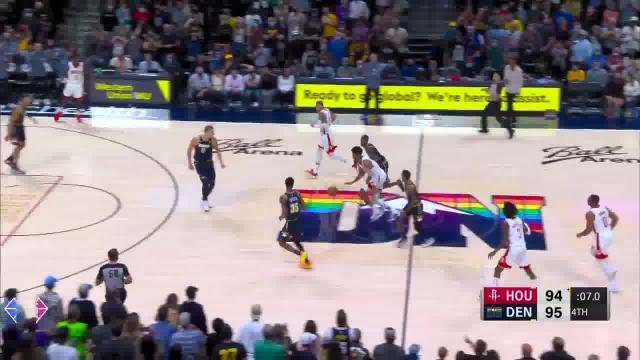ball-handler: (327, 147, 401, 221)
player: (488, 197, 536, 310), (575, 194, 623, 293), (303, 98, 360, 175), (272, 176, 314, 269), (390, 167, 436, 249), (182, 125, 225, 211), (354, 131, 402, 197), (3, 88, 37, 178), (54, 49, 88, 125)
